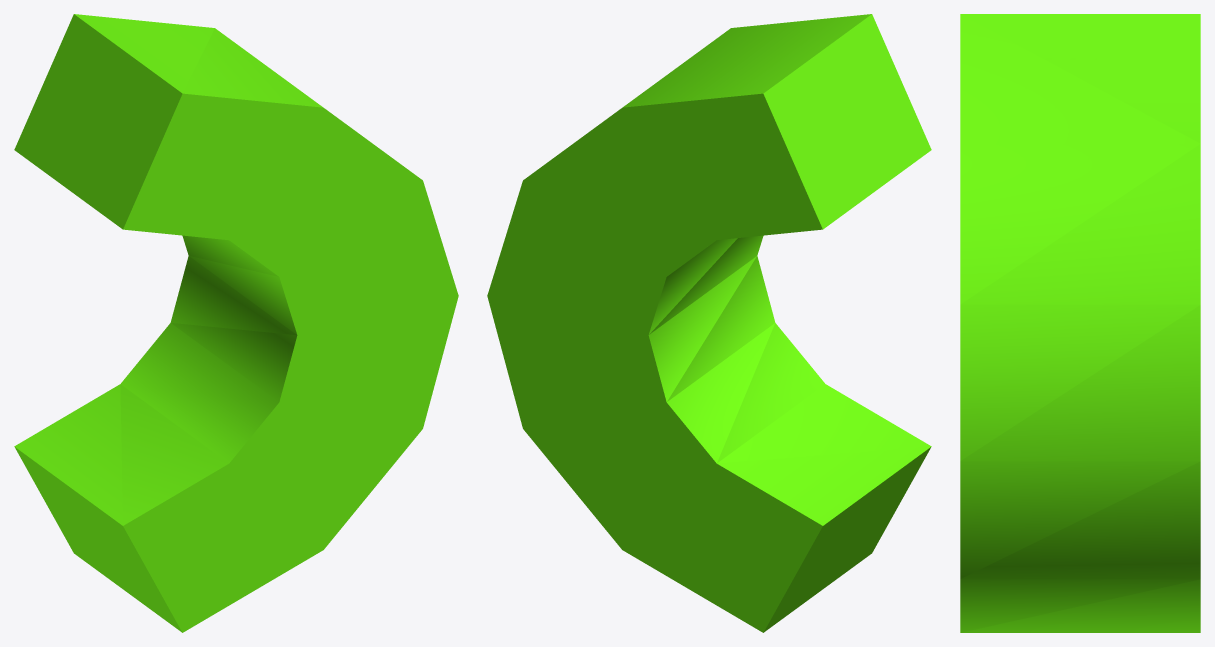
The model's file is choppedCeleryStick.obj.
The picture shows the model from 3 angles, left to right: view 1: azimuth 30°, elevation 25°; view 2: azimuth 150°, elevation 25°; view 3: azimuth 270°, elevation 25°; orthographic projection. The views are drawn at different scales.
Visible parts, largest first — view 1: celeryStick; view 2: celeryStick; view 3: celeryStick.
Boxes of the visible parts, box(x1,y1,x2,y2) form: celeryStick: box(14, 14, 458, 632); celeryStick: box(487, 14, 931, 632); celeryStick: box(960, 14, 1200, 632).
Size of the model in its own units: 0.0147 by 0.0226 by 0.00825.
